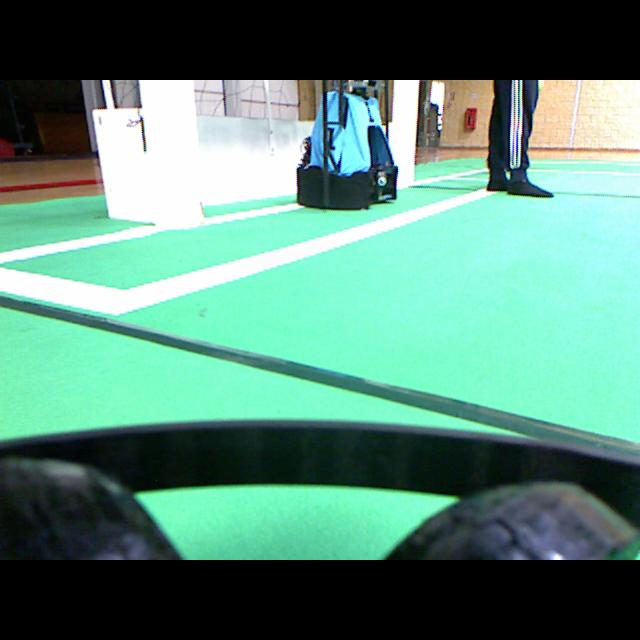goal: (140, 80, 203, 228), (389, 80, 418, 188)
